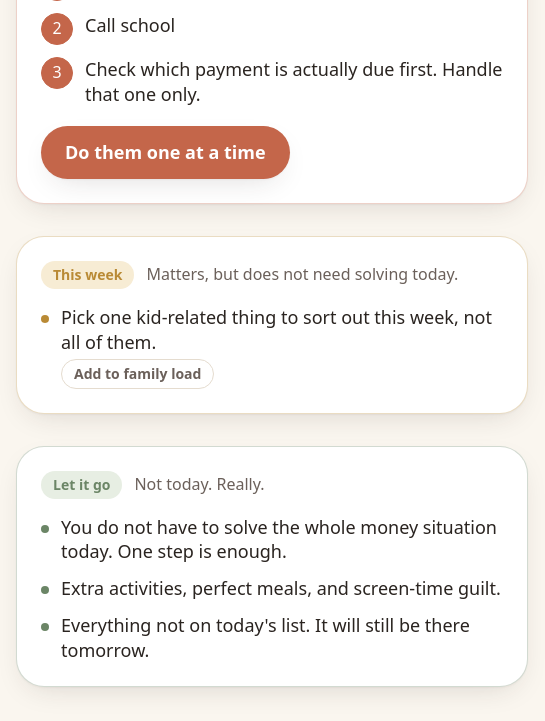
Test: result page: ticking, focus mode and add to load › adds a this-week item to Family Load in the matching area
(page scrolled)
Click the button "Add to family load": (138, 374) left=61, top=359, right=214, bottom=389
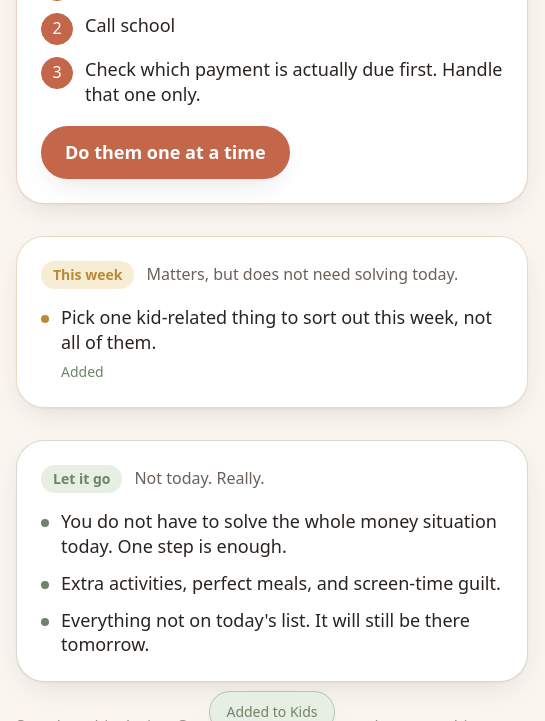
Expected: the text "Added" is shown, left=61, top=362, right=104, bottom=381
